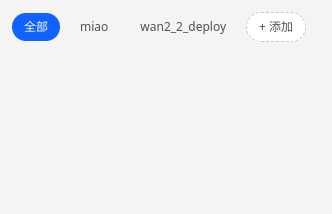
Scenario: WorkspaceChips › disables submit until both alias and path are filled
This screenshot has width=332, height=214.
Click the button "+ 添加" at (276, 27), box x1=246 y1=12 x2=306 y2=42
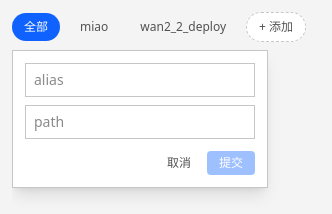
Expected: the button with test id "add-ws-submit" is disabled, x1=207 y1=151 x2=255 y2=175
Type "new-ws" into the field with test id "add-ws-alias" at (140, 80), box x1=25 y1=63 x2=255 y2=97
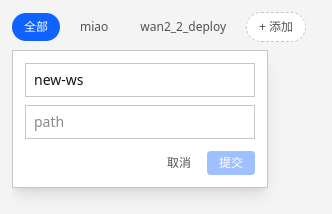
Expected: the button with test id "add-ws-submit" is disabled, x1=207 y1=151 x2=255 y2=175
Type "/x/new" into the field with test id "add-ws-path" at (140, 122), box x1=25 y1=105 x2=255 y2=139
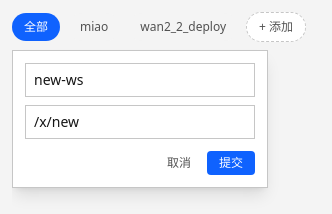
Expected: the button with test id "add-ws-submit" is enabled, x1=207 y1=151 x2=255 y2=175
